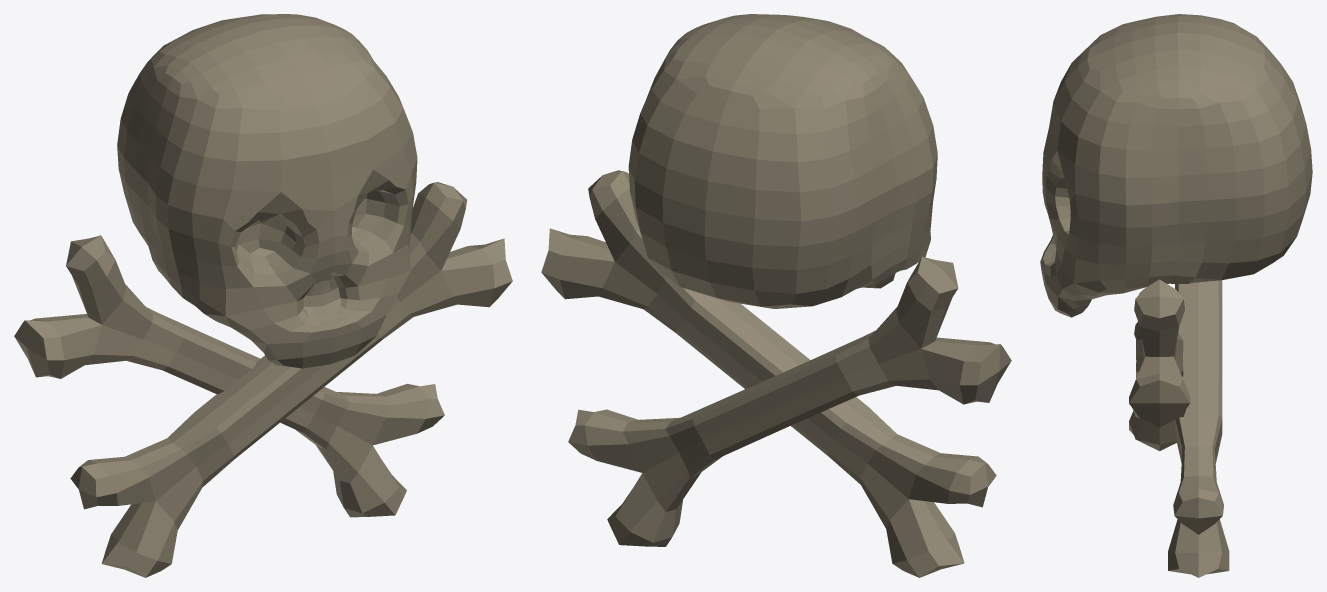
File: quaternius-rpg-items-pack-skull2.glb
The picture shows the model from 3 angles, left to right: view 1: azimuth 30°, elevation 25°; view 2: azimuth 150°, elevation 25°; view 3: azimuth 270°, elevation 25°; orthographic projection. The views are drawn at different scales.
Parts seen in each view (by area): view 1: Skull2; view 2: Skull2; view 3: Skull2.
Boxes of the visible parts, x1,y1,x2,y2 form: Skull2: (14,14,512,577); Skull2: (541,14,1011,577); Skull2: (1040,14,1312,577).
Bounding box in the file's own units: 0.858 × 0.9274 × 0.4708.
